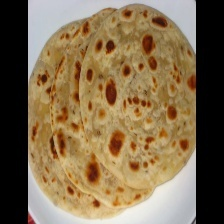roti: (29, 1, 196, 222)
